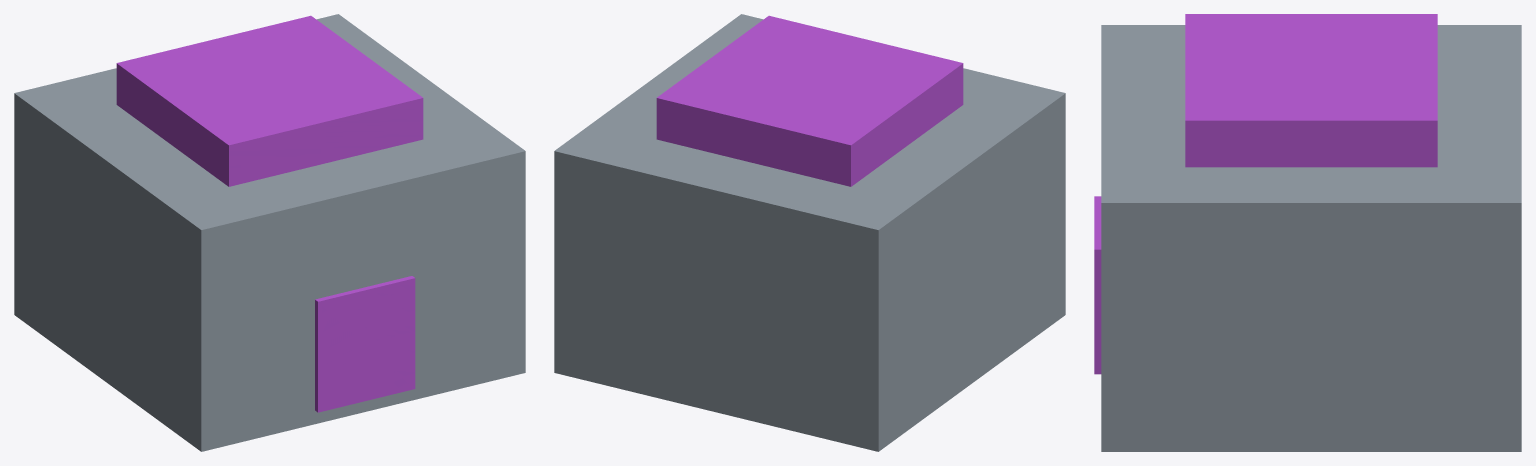
Rendered from CH_PowerPlant_LOD0.glb.
The picture shows the model from 3 angles, left to right: view 1: azimuth 30°, elevation 25°; view 2: azimuth 150°, elevation 25°; view 3: azimuth 270°, elevation 25°; orthographic projection. The views are drawn at different scales.
Visible parts, largest first — view 1: EntranceGate; view 2: EntranceGate; view 3: EntranceGate.
Part boxes in pixels (<box>): EntranceGate: <box>14,14,525,451</box>; EntranceGate: <box>554,14,1065,451</box>; EntranceGate: <box>1094,14,1521,451</box>.
Size of the model in its own units: 600 by 466 by 610.
